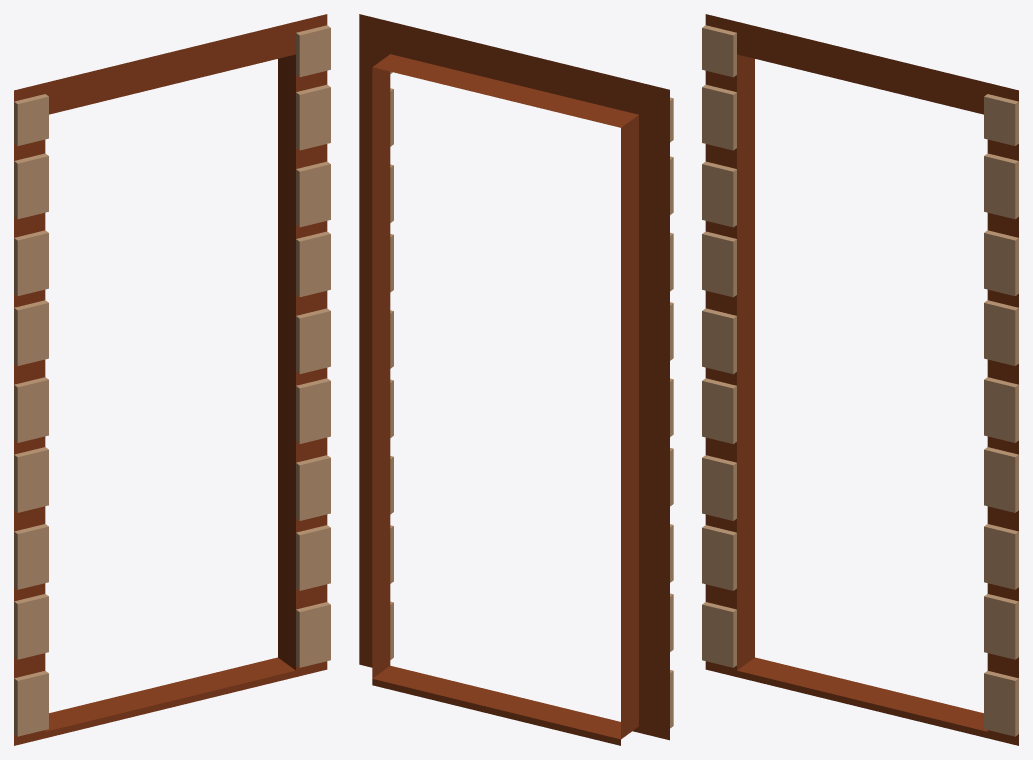
The model's file is Ext-BrickV1Doorframe.fbx.
3 views of the same model, side by side, from view 1: azimuth 30°, elevation 25°; view 2: azimuth 150°, elevation 25°; view 3: azimuth 330°, elevation 25° (orthographic).
Visible parts, largest first — view 1: Ext-BrickV1Doorframe; view 2: Ext-BrickV1Doorframe; view 3: Ext-BrickV1Doorframe.
Part boxes in pixels (x1=…): Ext-BrickV1Doorframe: x1=14, y1=14, x2=330, y2=745; Ext-BrickV1Doorframe: x1=359, y1=14, x2=673, y2=745; Ext-BrickV1Doorframe: x1=702, y1=14, x2=1018, y2=745.
Size of the model in its own units: 100 by 200 by 12.
